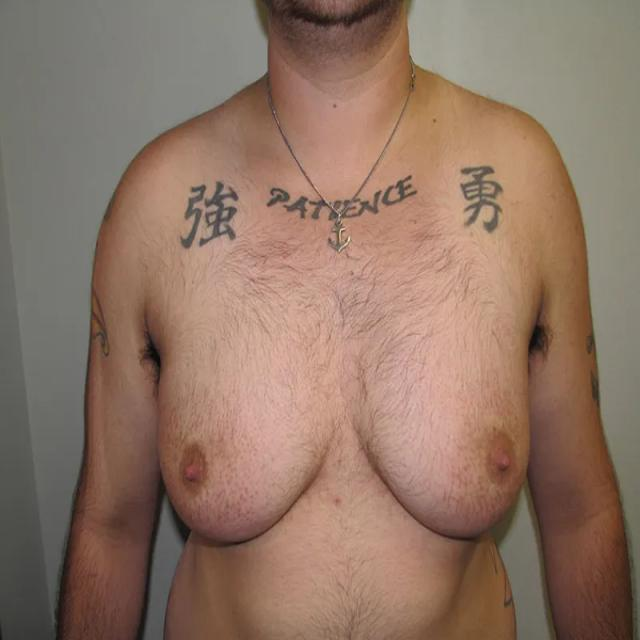Seno ileso: (348, 300, 536, 568), (152, 296, 336, 564)
